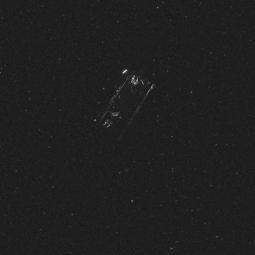lisa_pathfinder: (90, 60, 167, 143)
